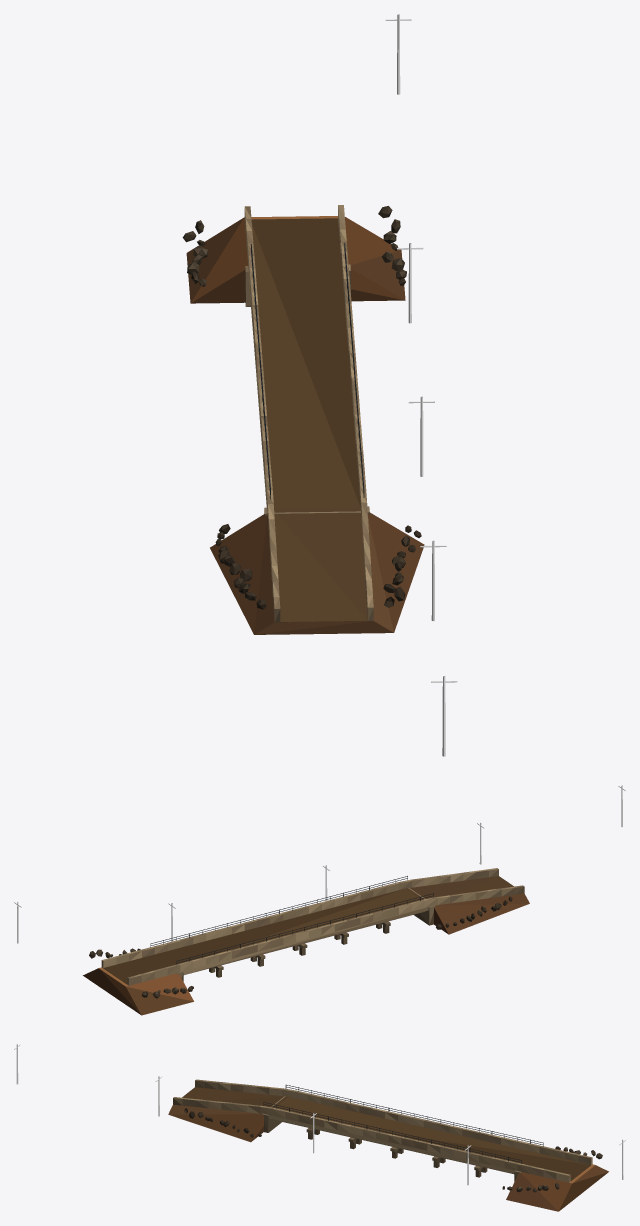
Rendered from barrage-djenne.glb.
3 views of the same model, one above another, from view 1: azimuth 30°, elevation 25°; view 2: azimuth 150°, elevation 25°; view 3: azimuth 270°, elevation 25° (orthographic). The views are drawn at different scales.
Parts seen in each view (by area): view 1: Bat_Barrage_Route.001, Bat_Barrage_Terre.001, Bat_Barrage_Beton.001, Bat_Barrage_Pierre.001, Bat_Barrage_Acier.001; view 2: Bat_Barrage_Beton.001, Bat_Barrage_Route.001, Bat_Barrage_Terre.001, Bat_Barrage_Acier.001, Bat_Barrage_Pierre.001; view 3: Bat_Barrage_Beton.001, Bat_Barrage_Route.001, Bat_Barrage_Terre.001, Bat_Barrage_Acier.001, Bat_Barrage_Pierre.001.
Part boxes in pixels (x1=…): Bat_Barrage_Route.001: x1=251, y1=218, x2=367, y2=622; Bat_Barrage_Terre.001: x1=186, y1=216, x2=424, y2=634; Bat_Barrage_Beton.001: x1=244, y1=205, x2=373, y2=622; Bat_Barrage_Pierre.001: x1=182, y1=206, x2=421, y2=609; Bat_Barrage_Acier.001: x1=250, y1=242, x2=364, y2=499; Bat_Barrage_Beton.001: x1=101, y1=868, x2=524, y2=985; Bat_Barrage_Route.001: x1=103, y1=876, x2=513, y2=984; Bat_Barrage_Terre.001: x1=83, y1=893, x2=529, y2=1015; Bat_Barrage_Acier.001: x1=150, y1=876, x2=433, y2=964; Bat_Barrage_Pierre.001: x1=89, y1=896, x2=512, y2=998; Bat_Barrage_Beton.001: x1=173, y1=1079, x2=592, y2=1182; Bat_Barrage_Route.001: x1=182, y1=1087, x2=590, y2=1180; Bat_Barrage_Terre.001: x1=168, y1=1104, x2=608, y2=1211; Bat_Barrage_Acier.001: x1=263, y1=1084, x2=543, y2=1163; Bat_Barrage_Pierre.001: x1=184, y1=1108, x2=602, y2=1192.
Size of the model in its own units: 45.9 by 13.12 by 83.84.
